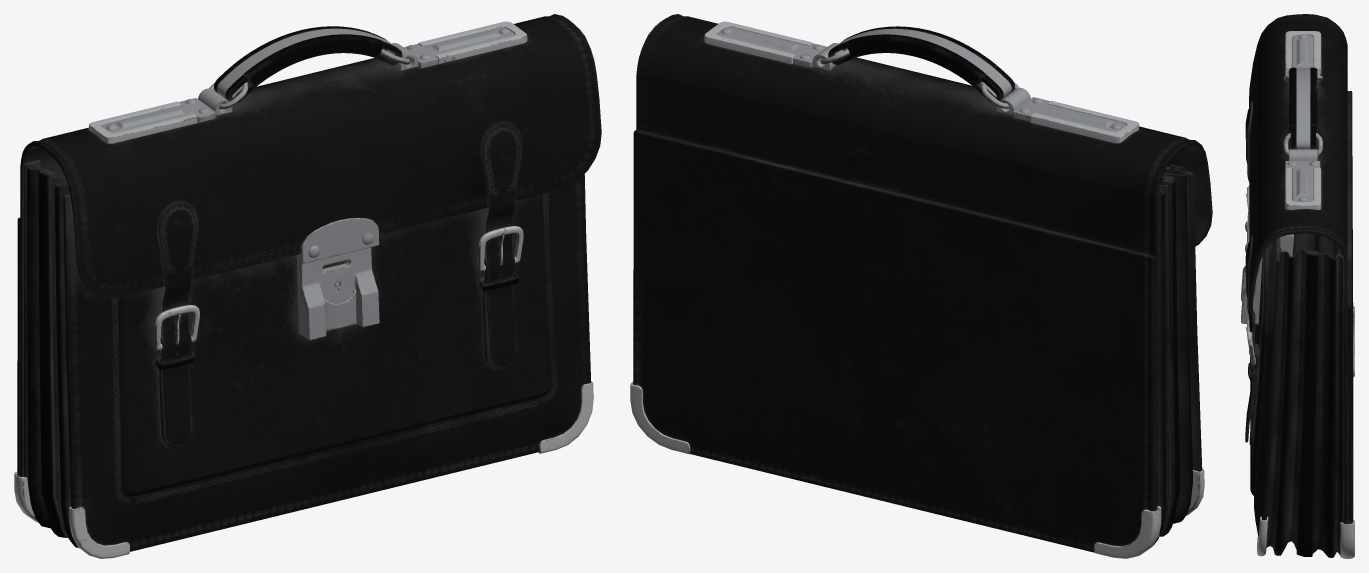
The picture shows the model from 3 angles, left to right: view 1: azimuth 30°, elevation 25°; view 2: azimuth 150°, elevation 25°; view 3: azimuth 270°, elevation 25°; orthographic projection. The views are drawn at different scales.
Visible parts, largest first — view 1: Front_Suitcase, Cover, Straps1, Middle_Suitcase, Briefcase_Lock, Handle_Lock_Piece, Middle_Extrusions, LeatherPart_Handle, Accesories, Briefcase_Buckle, Handle_Metal1, Strap_Ring (+4 smaller); view 2: Back, Cover, Middle_Suitcase, Handle_Lock_Piece, LeatherPart_Handle, Middle_Extrusions, Front_Suitcase, Back_Accesories, Handle_Metal1, Handle_Holder, Leather_Ends_Handle; view 3: Middle_Suitcase, Cover, Front_Suitcase, Middle_Extrusions, Handle_Lock_Piece, Back, Handle_Metal1, Straps1, LeatherPart_Handle, Briefcase_Lock, Back_Accesories, Bottom_straps (+5 smaller).
Part boxes in pixels (x1,y1,x2,y2): Front_Suitcase: (63,174,591,551); Cover: (20,14,601,476); Straps1: (158,123,522,446); Middle_Suitcase: (24,160,79,548); Briefcase_Lock: (297,247,379,340); Handle_Lock_Piece: (88,21,527,143); Middle_Extrusions: (38,169,68,537); LeatherPart_Handle: (232,26,384,87); Accesories: (69,381,593,558); Briefcase_Buckle: (300,218,379,263); Handle_Metal1: (217,28,395,99); Strap_Ring: (154,226,523,349); Back: (633,130,1155,552); Cover: (636,14,1212,510); Middle_Suitcase: (1153,164,1192,545); Handle_Lock_Piece: (704,21,1139,143); LeatherPart_Handle: (846,26,996,87); Middle_Extrusions: (1159,176,1180,536); Front_Suitcase: (1164,166,1202,471); Back_Accesories: (630,382,1161,558); Handle_Metal1: (835,28,1011,98); Handle_Holder: (812,43,1030,114); Leather_Ends_Handle: (828,33,1014,102); Middle_Suitcase: (1266,233,1344,557); Cover: (1249,14,1348,523); Front_Suitcase: (1250,237,1280,537); Middle_Extrusions: (1296,250,1318,556); Handle_Lock_Piece: (1285,31,1321,209); Back: (1347,91,1353,523); Handle_Metal1: (1296,68,1310,149); Straps1: (1245,101,1255,442); LeatherPart_Handle: (1289,67,1317,132); Briefcase_Lock: (1241,234,1293,324); Back_Accesories: (1340,306,1354,558); Bottom_straps: (1249,343,1259,444).
Bounding box in the file's own units: 0.4083 × 0.3322 × 0.0896.
1 material, 1 textured.
